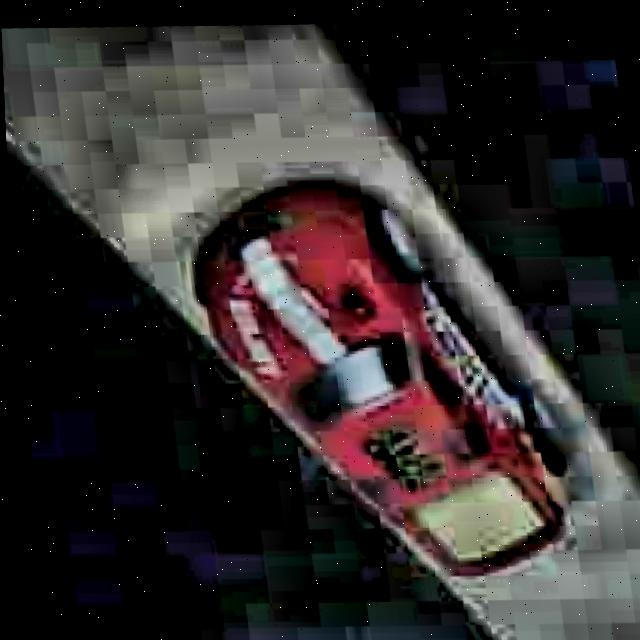car: (175, 145, 583, 608)
